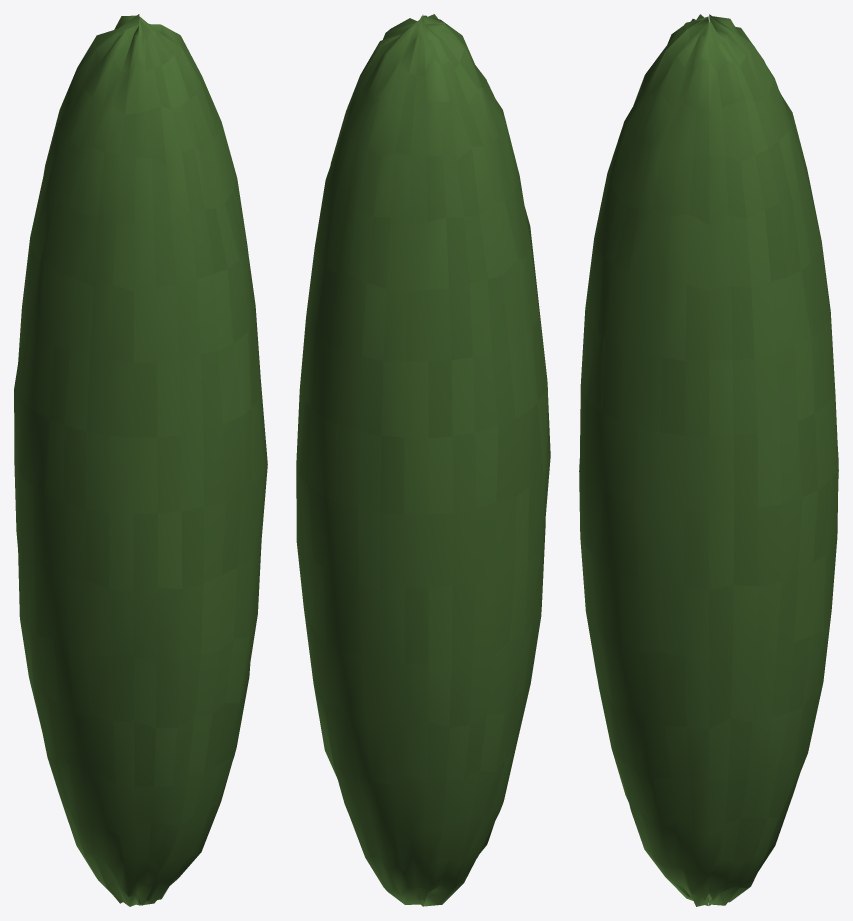
File: Zucchini.glb
3 renders of one model, left to right at view 1: azimuth 30°, elevation 25°; view 2: azimuth 150°, elevation 25°; view 3: azimuth 270°, elevation 25°, orthographic.
Parts seen in each view (by area): view 1: Zucchini; view 2: Zucchini; view 3: Zucchini.
Boxes of the visible parts, x1,y1,x2,y2 form: Zucchini: (14, 14, 267, 906); Zucchini: (296, 14, 550, 906); Zucchini: (579, 14, 838, 906).
Size of what is drawn, in the model's own units: 0.0461 by 0.1817 by 0.048.
